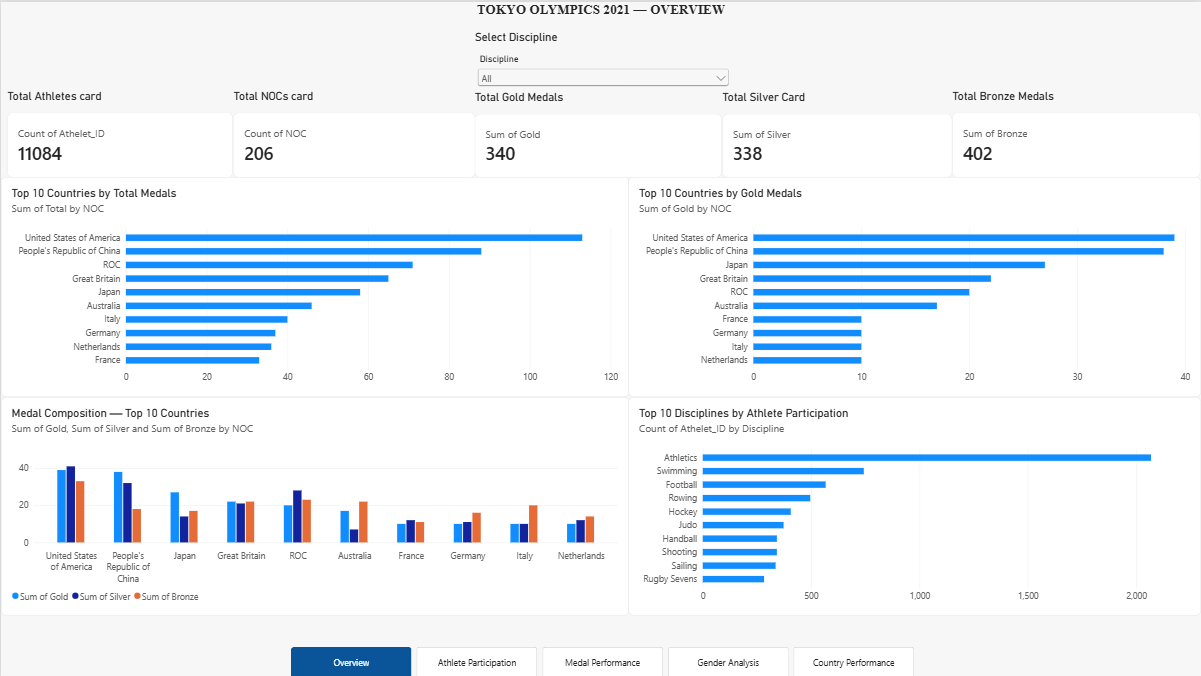

This screenshot's page, from the dashboard's own definition file:
{"tool":"powerbi","page":{"name":"Overview","canvas":[1920,1080],"ordinal":0},"visuals":[{"type":"cardVisual","title":"Total Athletes card","fields":{"Data":["CountNonNull(athletes_cleaned.Athelet_ID)"]},"box":[10.5,139.5,361,141.3],"z":0},{"type":"cardVisual","title":"Total NOCs card","fields":{"Data":["Count(athletes_cleaned.NOC)"]},"box":[371.5,139.5,387.2,141.3],"z":1},{"type":"cardVisual","title":"Total Gold Medals","fields":{"Data":["Sum(country_performance.Gold)"]},"box":[758.7,141.3,395.9,139.5],"z":2},{"type":"cardVisual","title":"Total Silver Card","fields":{"Data":["Sum(country_performance.Silver)"]},"box":[1154.7,141.3,368,139.5],"z":3},{"type":"cardVisual","title":"Total Bronze Medals","fields":{"Data":["Sum(country_performance.Bronze)"]},"box":[1522.7,139.5,397.7,141.3],"z":4},{"type":"clusteredBarChart","title":"Top 10 Countries by Total Medals","fields":{"Category":["country_performance.NOC"],"Y":["Sum(country_performance.Total)"]},"box":[0,279.9,1004.5,352],"z":5},{"type":"clusteredBarChart","title":"Top 10 Countries by Gold Medals","fields":{"Category":["country_performance.NOC"],"Y":["Sum(country_performance.Gold)"]},"box":[1004.5,279.9,916,352],"z":6},{"type":"clusteredColumnChart","title":"Medal Composition — Top 10 Countries","fields":{"Category":["country_performance.NOC"],"Y":["Sum(country_performance.Gold)","Sum(country_performance.Silver)","Sum(country_performance.Bronze)"]},"box":[0,631.9,1004.5,349.9],"z":7},{"type":"clusteredBarChart","title":"Top 10 Disciplines by Athlete Participation","fields":{"Category":["athletes_cleaned.Discipline"],"Y":["CountNonNull(athletes_cleaned.Athelet_ID)"]},"box":[1004.5,631.9,916,349.9],"z":8},{"type":"textbox","box":[0,0,1920.4,45.3],"z":9},{"type":"slicer","title":"Select Discipline","fields":{"Values":["athletes_cleaned.Discipline"]},"box":[758.7,45.3,411.6,94.2],"z":10},{"type":"pageNavigator","box":[463.1,1031.2,1000,50],"z":11}]}

Visuals, with their boxes in screenshot pixels (x1, y1, x2, y2), scaled from the page's 1920x1080 canvas onto the 1201x676 screenshot:
"Total Athletes card" cardVisual: <bbox>7, 87, 232, 176</bbox>
"Total NOCs card" cardVisual: <bbox>232, 87, 475, 176</bbox>
"Total Gold Medals" cardVisual: <bbox>475, 88, 722, 176</bbox>
"Total Silver Card" cardVisual: <bbox>722, 88, 952, 176</bbox>
"Total Bronze Medals" cardVisual: <bbox>952, 87, 1200, 176</bbox>
"Top 10 Countries by Total Medals" clusteredBarChart: <bbox>0, 175, 628, 396</bbox>
"Top 10 Countries by Gold Medals" clusteredBarChart: <bbox>628, 175, 1200, 396</bbox>
"Medal Composition — Top 10 Countries" clusteredColumnChart: <bbox>0, 396, 628, 615</bbox>
"Top 10 Disciplines by Athlete Participation" clusteredBarChart: <bbox>628, 396, 1200, 615</bbox>
textbox: <bbox>0, 0, 1200, 28</bbox>
"Select Discipline" slicer: <bbox>475, 28, 732, 87</bbox>
pageNavigator: <bbox>290, 645, 915, 675</bbox>
